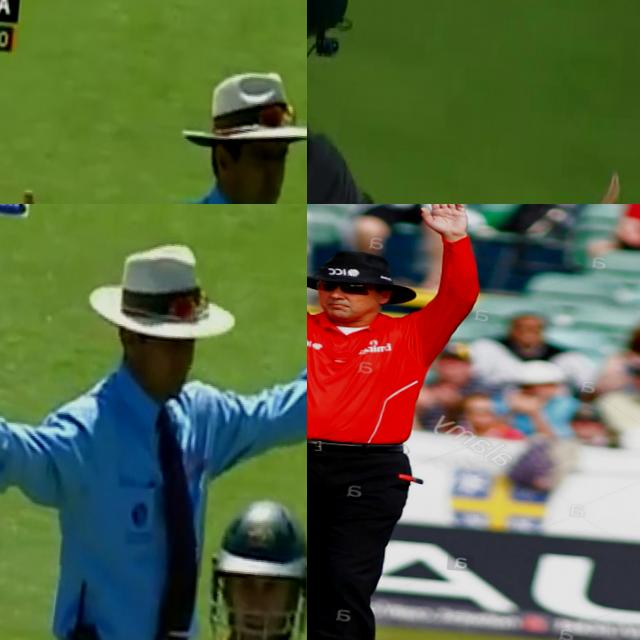No_Ball: (307, 0, 640, 204), (0, 36, 307, 204)
Six: (307, 204, 505, 640)
Wide: (0, 214, 307, 582)
